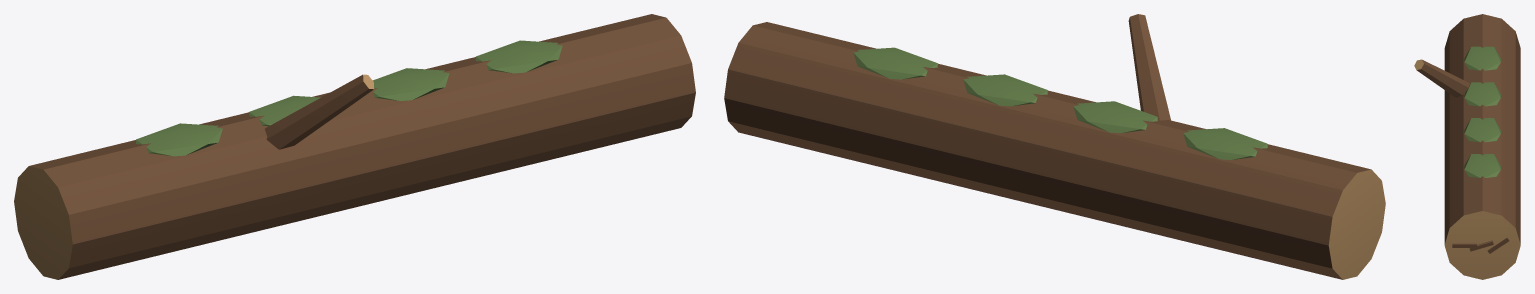
File: fallen_log_c.glb
3 renders of one model, left to right at view 1: azimuth 30°, elevation 25°; view 2: azimuth 150°, elevation 25°; view 3: azimuth 270°, elevation 25°, orthographic. The views are drawn at different scales.
Parts seen in each view (by area): view 1: fallen_log_c; view 2: fallen_log_c; view 3: fallen_log_c.
Boxes of the visible parts, left/top/right/bottom form: fallen_log_c: left=14, top=14, right=695, bottom=279; fallen_log_c: left=724, top=14, right=1385, bottom=279; fallen_log_c: left=1414, top=14, right=1520, bottom=279.
Size of the model in its own units: 4.43 by 1.14 by 1.01.
